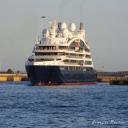cruises: (26, 21, 99, 88)
